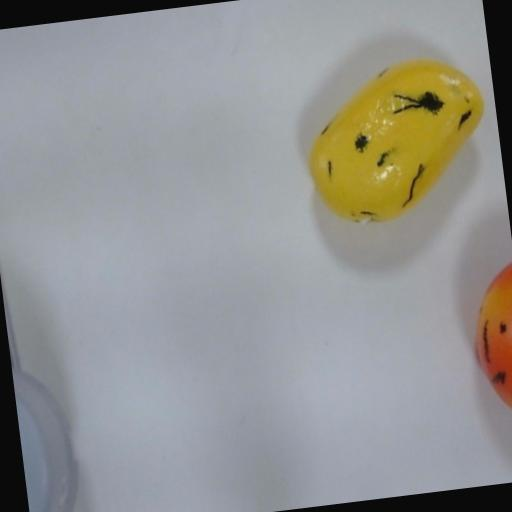Defective: (292, 45, 498, 238), (459, 247, 512, 440)
